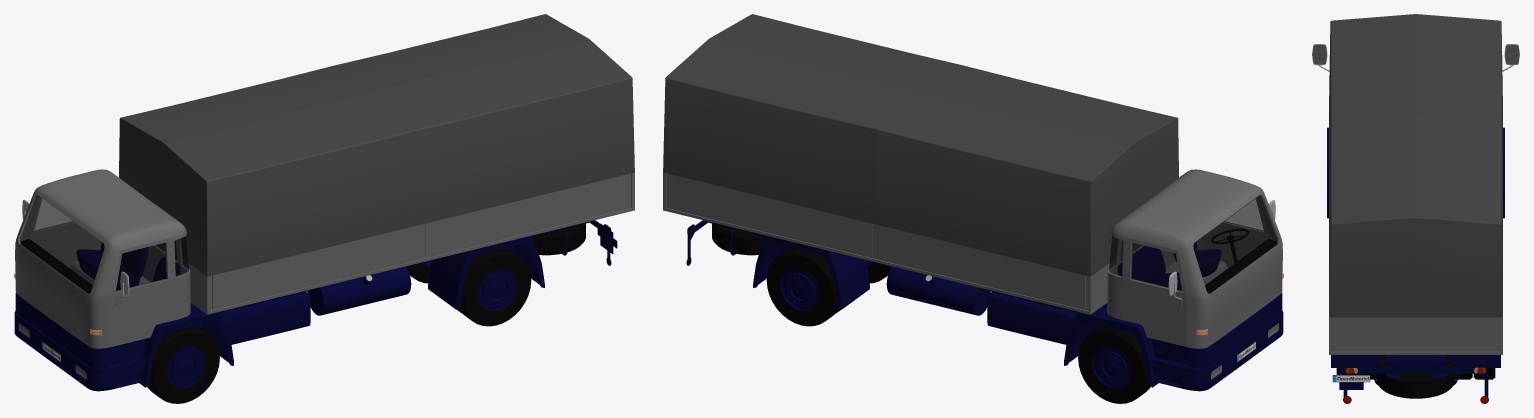
Rendered from truck_example.gltf.
The picture shows the model from 3 angles, left to right: view 1: azimuth 30°, elevation 25°; view 2: azimuth 150°, elevation 25°; view 3: azimuth 270°, elevation 25°; orthographic projection. The views are drawn at different scales.
Parts seen in each view (by area): view 1: Truck_Bed_Cover_Canvas, Cabin_High, Truck_Bed_Doors, Wheel_Houses, Window_F, Door_FL, Truck_Bed, Tire_BL_Outer, Tire_FL, Engine, Fuel_Tanks, Bumper_Low (+11 smaller); view 2: Truck_Bed_Cover_Canvas, Cabin_High, Truck_Bed_Doors, Wheel_Houses, Window_F, Door_FR, Truck_Bed, Tire_BR_Outer, Tire_FR, Engine, Fuel_Tanks, Bumper_Low (+11 smaller); view 3: Truck_Bed_Cover_Canvas, Truck_Bed_Doors, Spare_Wheel_Tire, Wheel_Houses, Truck_Bed, Chassis_Lateral_Beams, Chassis_Tail, Mirror_Casing_FL, Mirror_Casing_FR, Number_Plate_R, Number_Plate_R_Holder, Chassis_Longitunal_Beams (+2 smaller).
Boxes of the visible parts, x1,y1,x2,y2 form: Truck_Bed_Cover_Canvas: (119,14,634,276); Cabin_High: (15,169,190,348); Truck_Bed_Doors: (212,174,626,308); Wheel_Houses: (139,235,544,387); Window_F: (20,196,104,293); Door_FL: (111,238,175,346); Truck_Bed: (156,172,634,314); Tire_BL_Outer: (458,247,531,326); Tire_FL: (147,325,219,403); Engine: (220,292,310,344); Fuel_Tanks: (307,266,411,315); Bumper_Low: (14,311,145,391); Truck_Bed_Cover_Canvas: (663,14,1178,276); Cabin_High: (1107,169,1282,348); Truck_Bed_Doors: (671,174,1085,308); Wheel_Houses: (753,235,1158,387); Window_F: (1193,196,1277,293); Door_FR: (1122,238,1186,346); Truck_Bed: (663,172,1141,314); Tire_BR_Outer: (766,247,839,326); Tire_FR: (1078,325,1150,403); Engine: (987,292,1077,344); Fuel_Tanks: (886,266,990,315); Bumper_Low: (1152,311,1283,391); Truck_Bed_Cover_Canvas: (1329,14,1502,317); Truck_Bed_Doors: (1332,317,1499,350); Spare_Wheel_Tire: (1376,355,1455,398); Wheel_Houses: (1327,127,1504,367); Truck_Bed: (1329,317,1502,354); Chassis_Lateral_Beams: (1386,355,1445,373); Chassis_Tail: (1343,368,1488,397); Mirror_Casing_FL: (1312,44,1327,65); Mirror_Casing_FR: (1504,44,1519,65); Number_Plate_R: (1332,375,1370,382); Number_Plate_R_Holder: (1339,368,1363,389); Chassis_Longitunal_Beams: (1386,355,1445,378).
Size of the model in its own units: 8.44 by 3.38 by 2.88.
13 materials, 1 textured.
